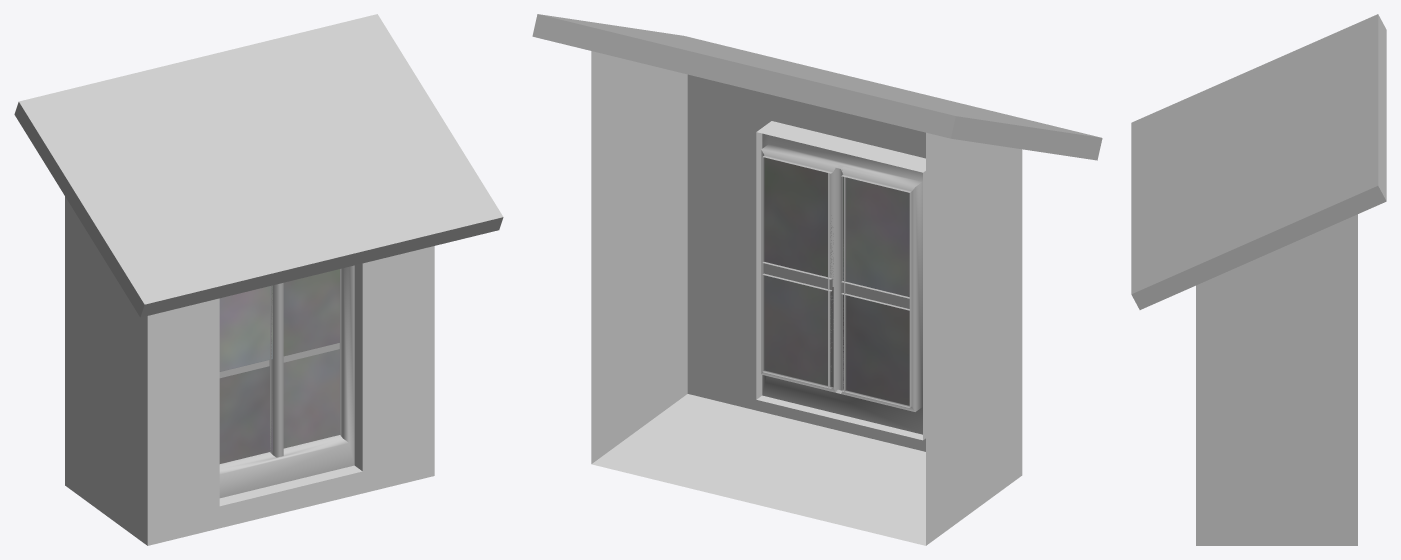
The model's file is Roof_Window_02.fbx.
3 renders of one model, left to right at view 1: azimuth 30°, elevation 25°; view 2: azimuth 150°, elevation 25°; view 3: azimuth 270°, elevation 25°, orthographic. The views are drawn at different scales.
Parts seen in each view (by area): view 1: Roof_Window_02; view 2: Roof_Window_02; view 3: Roof_Window_02.
Boxes of the visible parts, box(x1,y1,x2,y2) form: Roof_Window_02: box(14, 14, 503, 545); Roof_Window_02: box(532, 14, 1102, 545); Roof_Window_02: box(1131, 14, 1386, 545).
Size of what is drawn, in the model's own units: 1.78 by 1.83 by 1.12.
